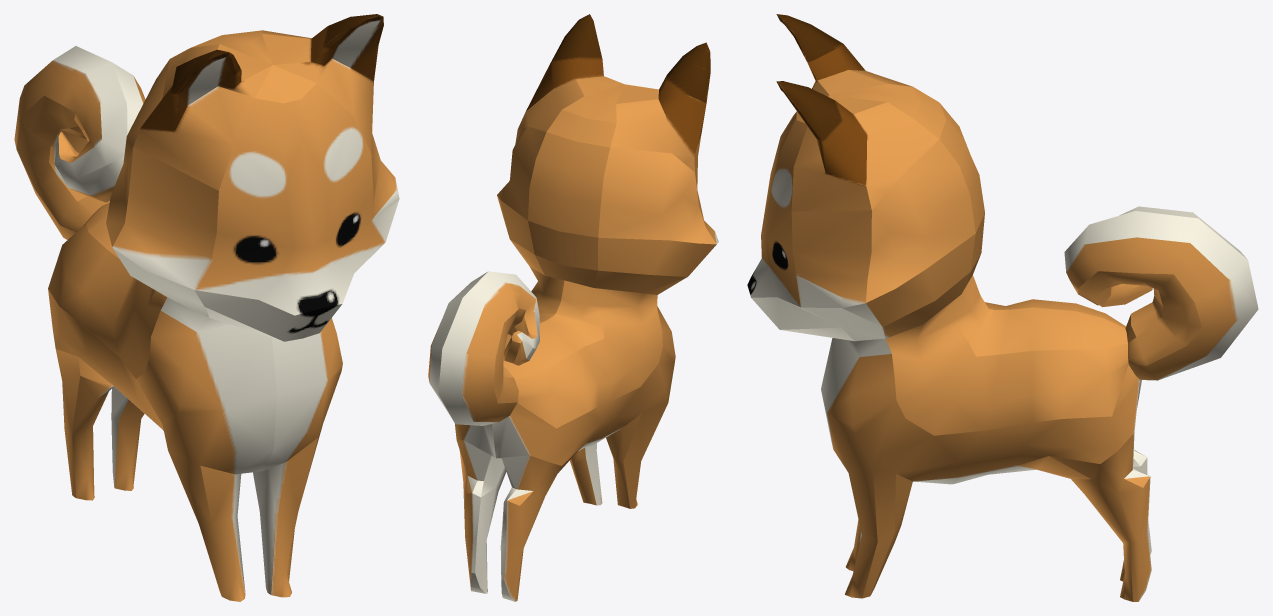
Rendered from tailWagging_frame40.obj.
3 renders of one model, left to right at view 1: azimuth 30°, elevation 25°; view 2: azimuth 150°, elevation 25°; view 3: azimuth 270°, elevation 25°, orthographic. The views are drawn at different scales.
Parts seen in each view (by area): view 1: newRigging:BodzL1; view 2: newRigging:BodzL1; view 3: newRigging:BodzL1.
Part boxes in pixels (bbox=[...]): newRigging:BodzL1: bbox=[14, 14, 399, 601]; newRigging:BodzL1: bbox=[428, 14, 718, 601]; newRigging:BodzL1: bbox=[747, 14, 1258, 601].
Size of the model in its own units: 3.91 by 7.95 by 6.81.
1 material, 1 textured.
